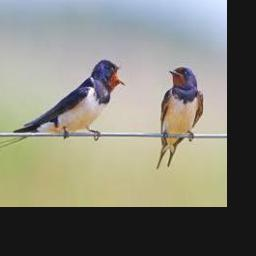Swallow: (0, 59, 128, 150), (157, 65, 203, 169)
